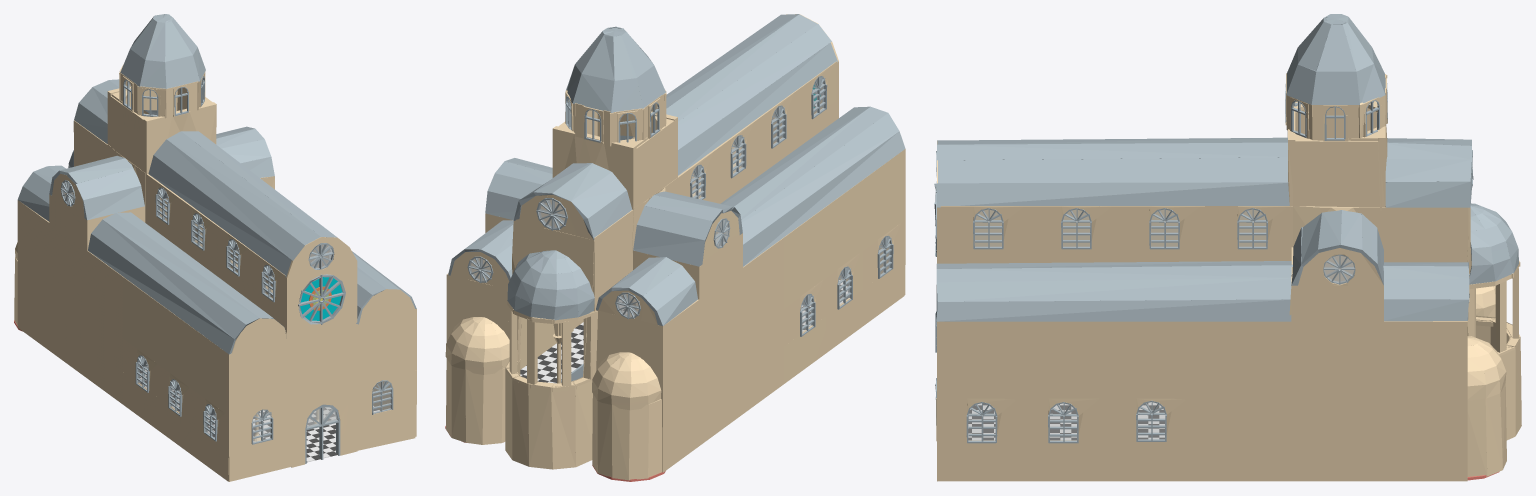
Rendered from Cathedral.fbx.
3 renders of one model, left to right at view 1: azimuth 30°, elevation 25°; view 2: azimuth 150°, elevation 25°; view 3: azimuth 270°, elevation 25°, orthographic. The views are drawn at different scales.
Parts seen in each view (by area): view 1: Cathedral_wall_right, Cathedral_roof, Cathedral_wall_back, Cathedral_tower_walls, Cathedral_dome, cathedral_windows_right, Cathedral_circular_windows_large, Cathedral_octagonal_walls, Cathedral_floor, Cathedral_winodws_back, Cathedral_entrance, Cathedral_arch_right (+3 smaller); view 2: Cathedral_wall_right, Cathedral_roof, Cathedral_wall_front, Cathedral_dome, Cathedral_tower_walls, cathedral_windows_right, Cathedral_octagonal_walls, Cathedral_circular_windows_small, Cathedral_wall_left, Cathedral_floor, Cathedral_arch_right, Cathedral_octagonal_windows (+1 smaller); view 3: Cathedral_wall_left, Cathedral_roof, Cathedral_wall_front, Cathedral_dome, Cathedral_windows_left, Cathedral_tower_walls, Cathedral_wall_right, Cathedral_octagonal_walls, Cathedral_floor, Cathedral_arch_left, Cathedral_octagonal_windows, Cathedral_circular_windows_small.
Boxes of the visible parts, x1,y1,x2,y2 form: Cathedral_wall_right: (17, 120, 285, 481); Cathedral_roof: (17, 79, 416, 354); Cathedral_wall_back: (226, 237, 415, 481); Cathedral_tower_walls: (107, 86, 216, 173); Cathedral_dome: (68, 14, 205, 167); cathedral_windows_right: (135, 187, 275, 441); Cathedral_circular_windows_large: (298, 274, 345, 324); Cathedral_octagonal_walls: (111, 64, 212, 124); Cathedral_floor: (139, 364, 379, 462); Cathedral_winodws_back: (251, 380, 393, 444); Cathedral_entrance: (305, 404, 340, 463); Cathedral_arch_right: (49, 144, 145, 250); Cathedral_wall_right: (593, 61, 904, 472); Cathedral_roof: (448, 14, 905, 325); Cathedral_wall_front: (445, 195, 662, 480); Cathedral_dome: (507, 26, 665, 320); Cathedral_tower_walls: (552, 111, 677, 209); cathedral_windows_right: (690, 76, 893, 336); Cathedral_octagonal_walls: (558, 90, 677, 147); Cathedral_circular_windows_small: (467, 198, 730, 319); Cathedral_wall_left: (446, 137, 741, 369); Cathedral_floor: (520, 280, 848, 383); Cathedral_arch_right: (621, 178, 742, 316); Cathedral_octagonal_windows: (565, 96, 659, 142); Cathedral_wall_left: (936, 206, 1469, 481); Cathedral_roof: (934, 137, 1472, 321); Cathedral_wall_front: (1467, 207, 1521, 476); Cathedral_dome: (1286, 14, 1518, 284); Cathedral_windows_left: (966, 208, 1267, 443); Cathedral_tower_walls: (1287, 106, 1387, 210); Cathedral_wall_right: (974, 209, 1353, 281); Cathedral_octagonal_walls: (1285, 73, 1387, 144); Cathedral_floor: (968, 402, 1165, 440); Cathedral_arch_left: (1289, 206, 1379, 314); Cathedral_octagonal_windows: (1285, 83, 1387, 140); Cathedral_circular_windows_small: (936, 150, 1473, 302).
Size of the model in its own units: 125 by 204 by 267.
